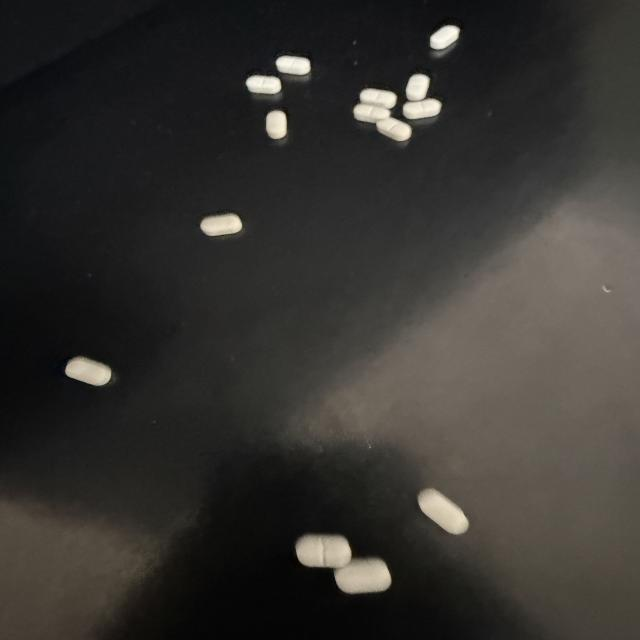pill: (418, 489, 468, 534), (335, 558, 391, 593), (296, 534, 351, 568), (65, 357, 111, 386), (200, 213, 242, 236), (376, 118, 411, 141), (360, 88, 397, 109), (403, 99, 441, 119), (430, 25, 459, 49), (354, 104, 390, 123), (246, 75, 281, 94), (276, 56, 310, 75), (406, 74, 429, 101), (266, 110, 287, 139)
